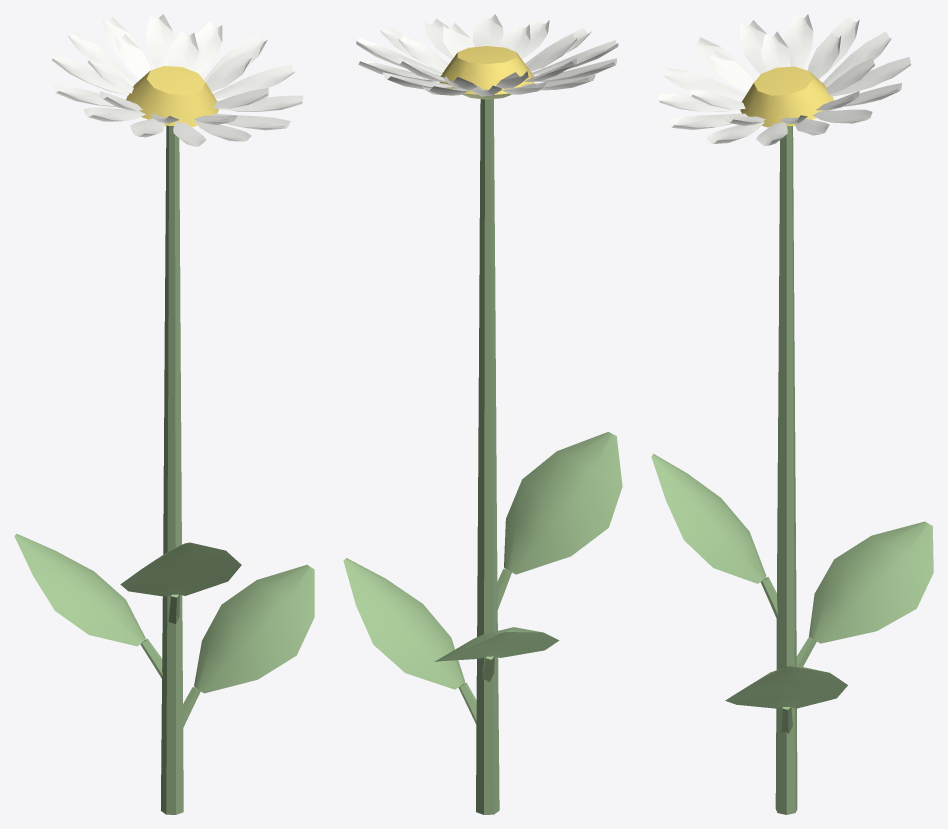
The model's file is daisy.glb.
3 renders of one model, left to right at view 1: azimuth 30°, elevation 25°; view 2: azimuth 150°, elevation 25°; view 3: azimuth 270°, elevation 25°, orthographic. The views are drawn at different scales.
Parts seen in each view (by area): view 1: foliage, flower, stem; view 2: foliage, flower, stem; view 3: foliage, flower, stem.
Part boxes in pixels (bbox=[...]): foliage: bbox=[14, 533, 314, 727]; flower: bbox=[51, 14, 303, 146]; stem: bbox=[160, 125, 183, 814]; foliage: bbox=[343, 432, 622, 724]; flower: bbox=[356, 14, 618, 99]; stem: bbox=[476, 99, 499, 814]; foliage: bbox=[651, 453, 933, 733]; flower: bbox=[658, 14, 910, 145]; stem: bbox=[775, 126, 797, 814].
Size of the model in its own units: 0.1549 by 0.4471 by 0.1523.
